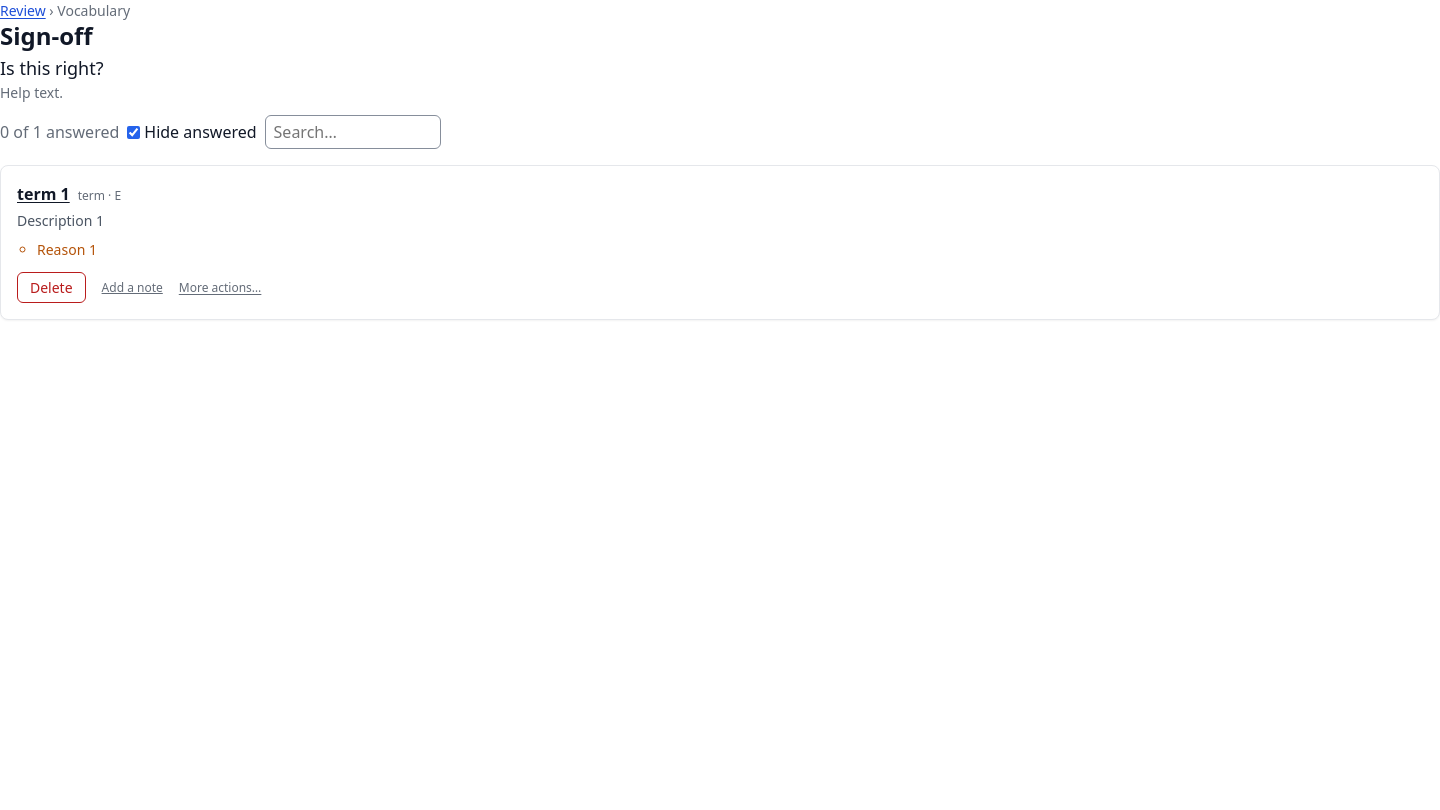
Test: review type page › confirm: cancel sends nothing; a 409 shows the reload hint
expect the link "term 1" is shown: met, box [17,183,70,205]
Click the button "Delete" at x=51, y=288, box [17,272,86,303]
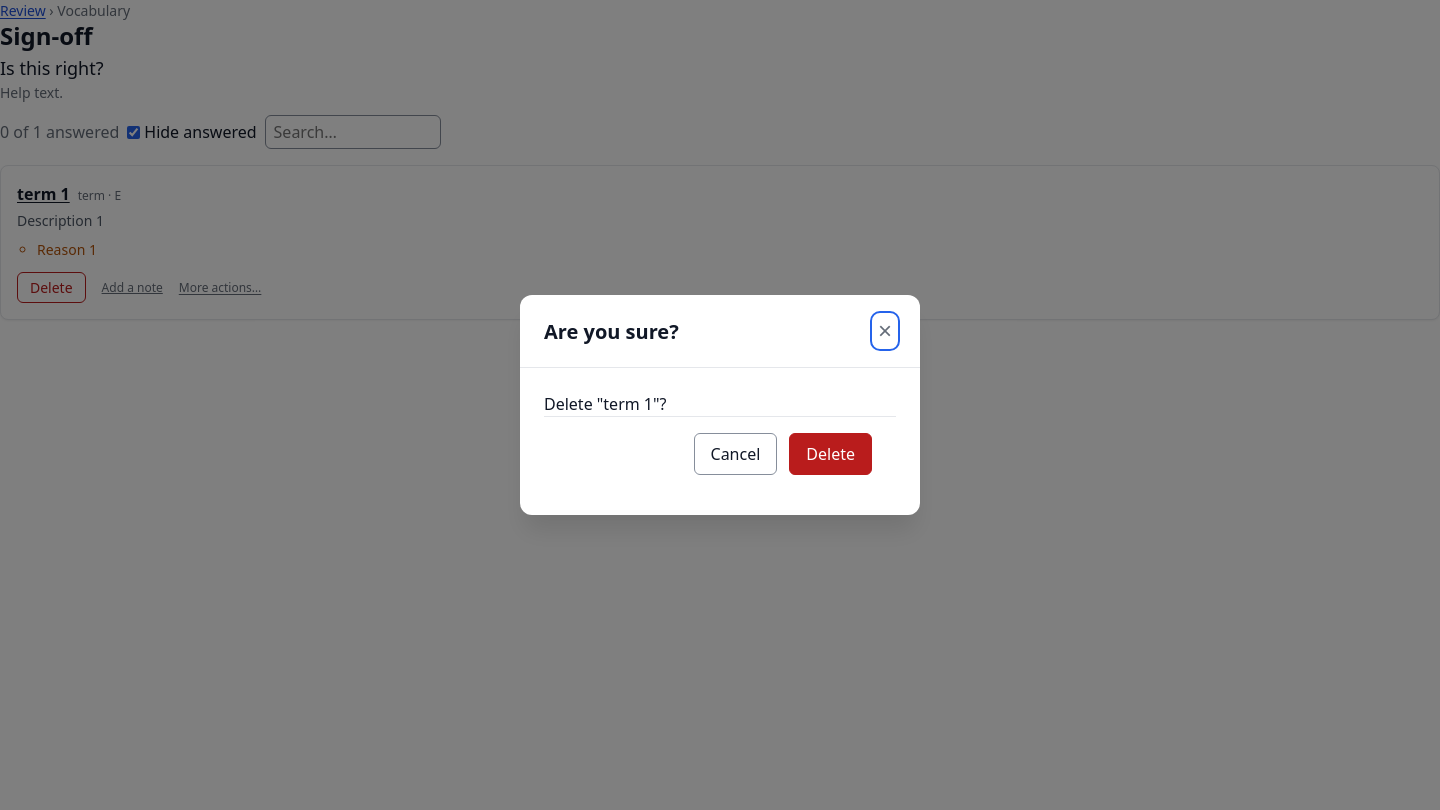
expect the dialog shows "Delete \"term 1\"?": met, box [544,393,666,415]
Click the button "Cancel" at x=735, y=454, box [694,433,777,475]
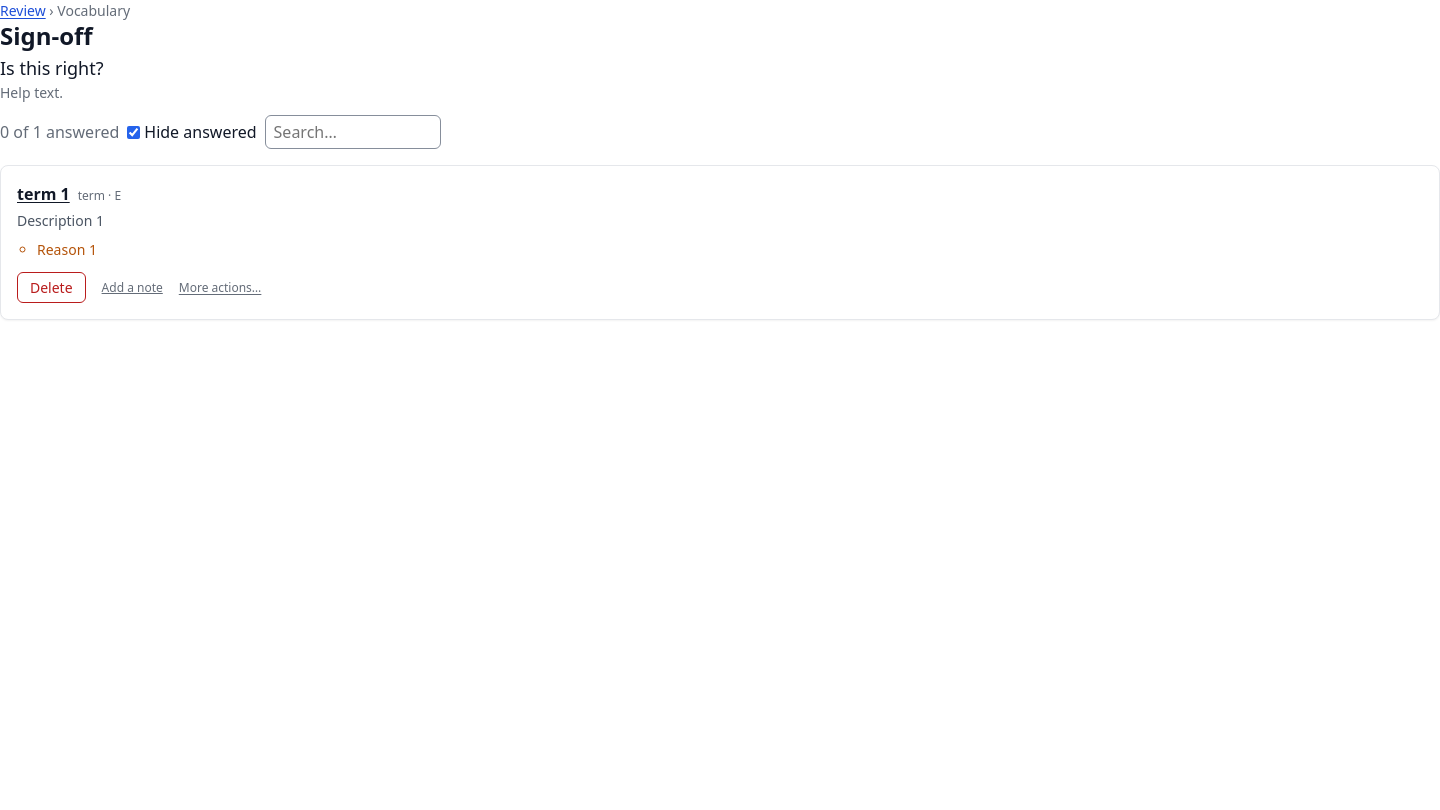
Click the button "Delete" at x=51, y=288, box [17,272,86,303]
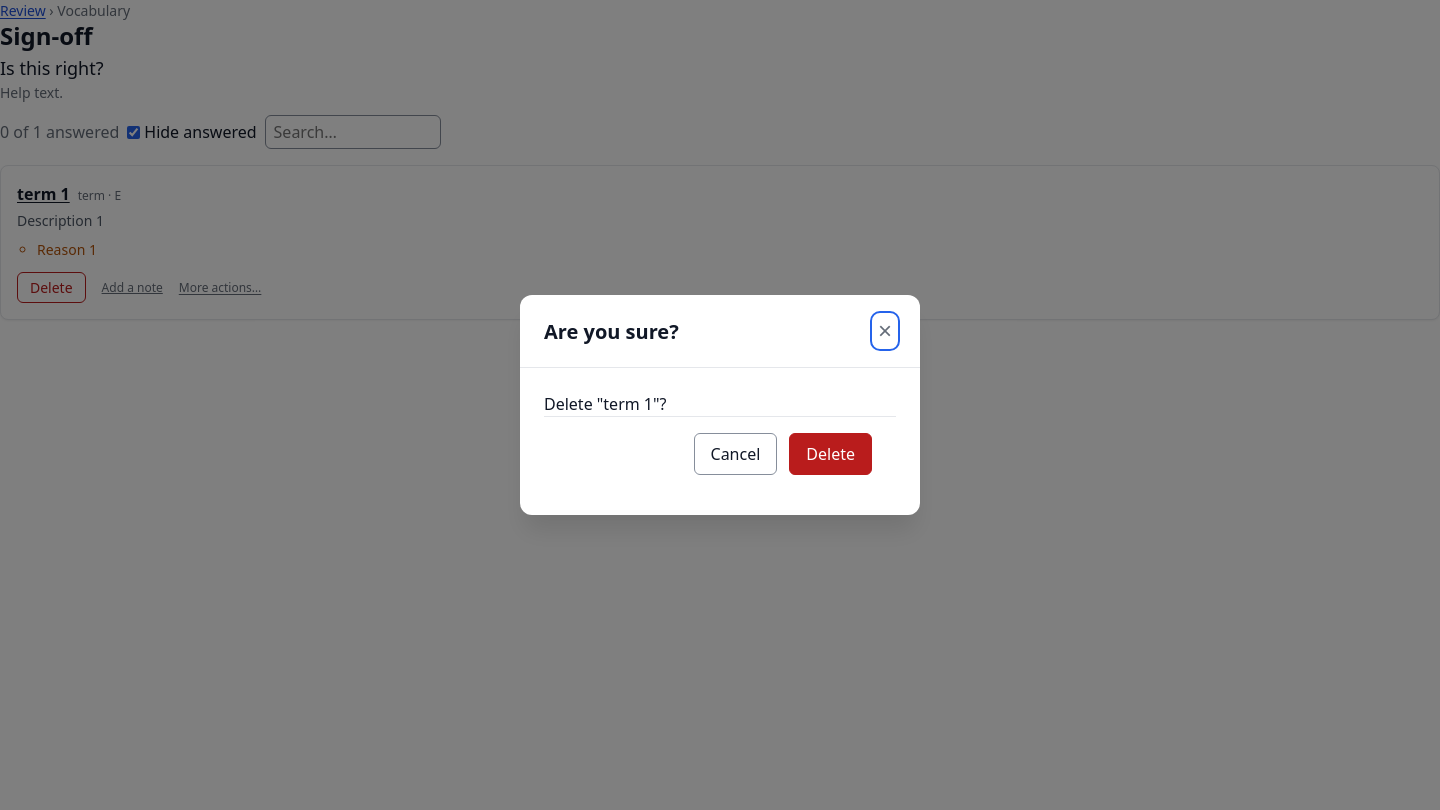
Click the button "Delete" at x=831, y=454, box [789,433,872,475]
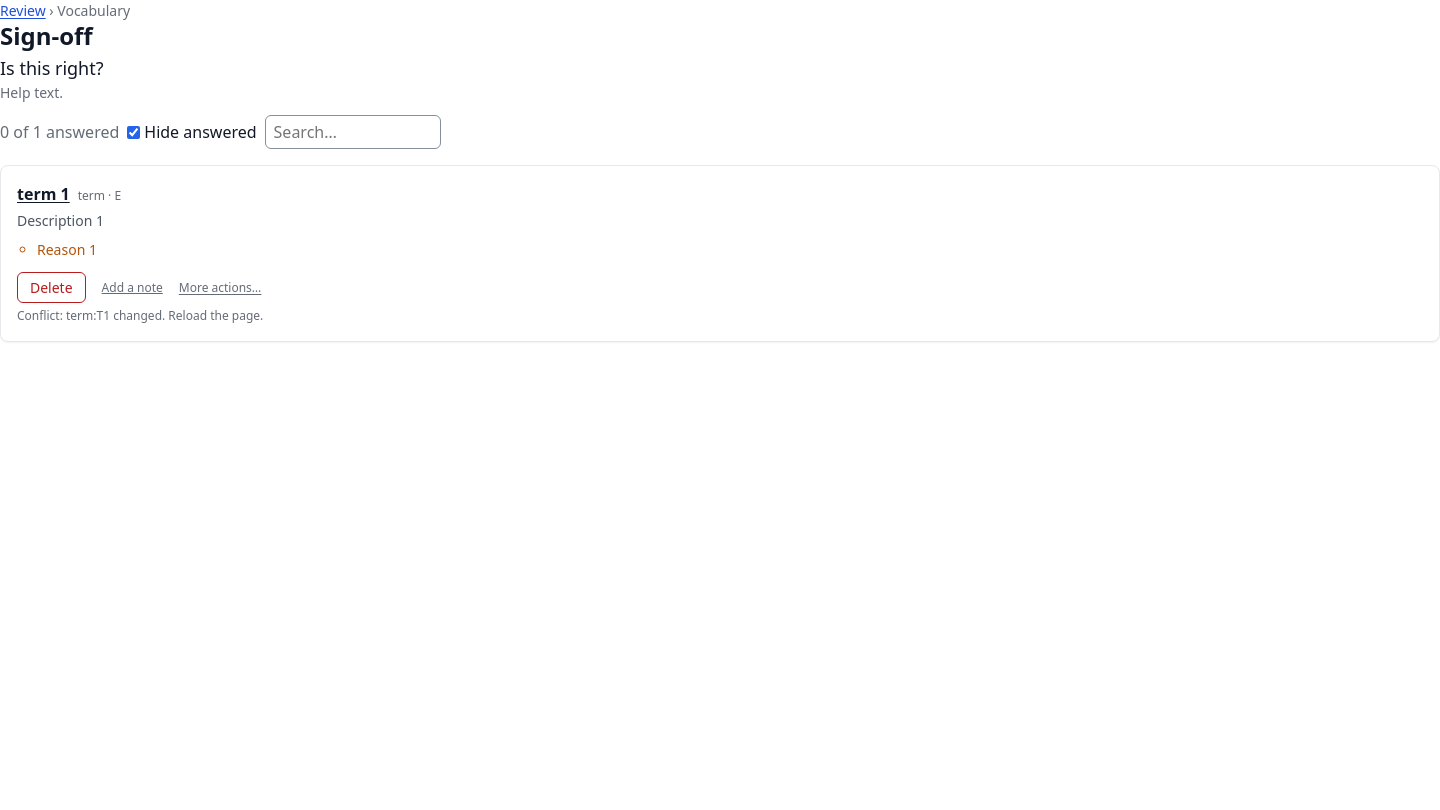
expect the text "Conflict: term:T1 changed. Reload the page." is shown: met, box [17,307,263,324]
